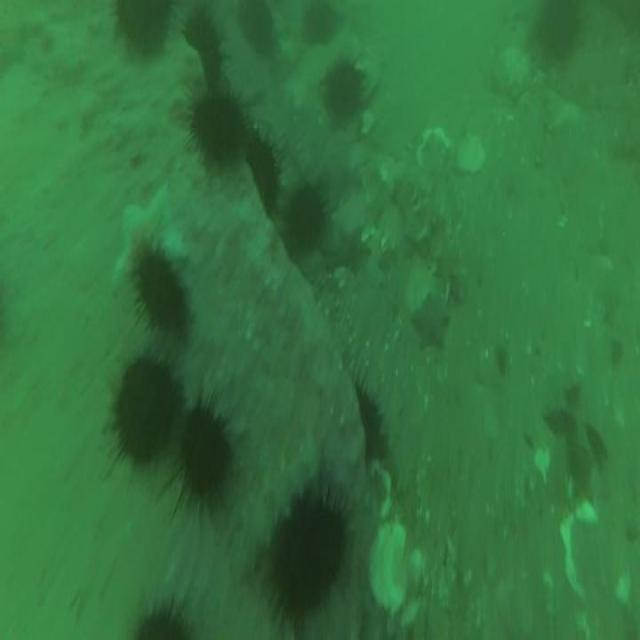echinus: (249, 442, 358, 640), (162, 370, 244, 529), (98, 342, 188, 484), (120, 218, 200, 356), (185, 78, 245, 172), (238, 114, 284, 223), (278, 169, 332, 261), (109, 0, 179, 70), (351, 362, 393, 476), (316, 49, 372, 133), (124, 584, 199, 640), (180, 0, 227, 82), (528, 1, 587, 66), (233, 0, 282, 60), (298, 2, 345, 55)
scallop: (371, 517, 421, 629), (496, 40, 528, 100), (455, 128, 487, 183)
starfish: (312, 136, 363, 210), (412, 283, 454, 357), (335, 220, 373, 281)
